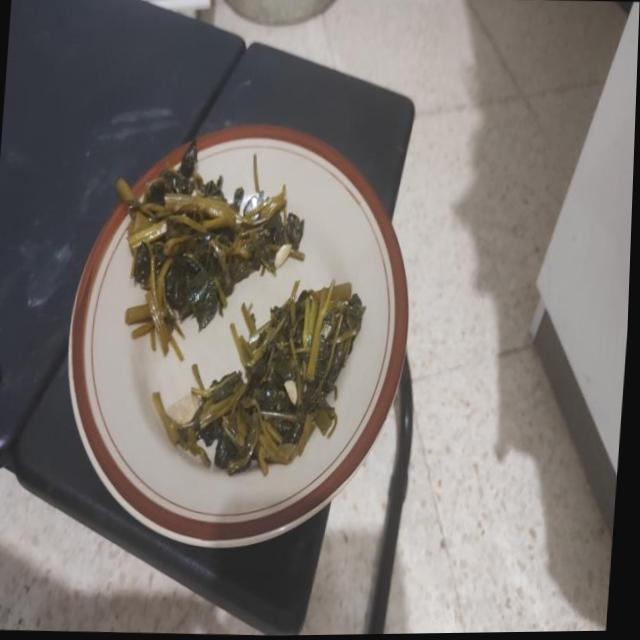tumis_kangkung: (153, 280, 365, 476), (127, 140, 304, 330)
